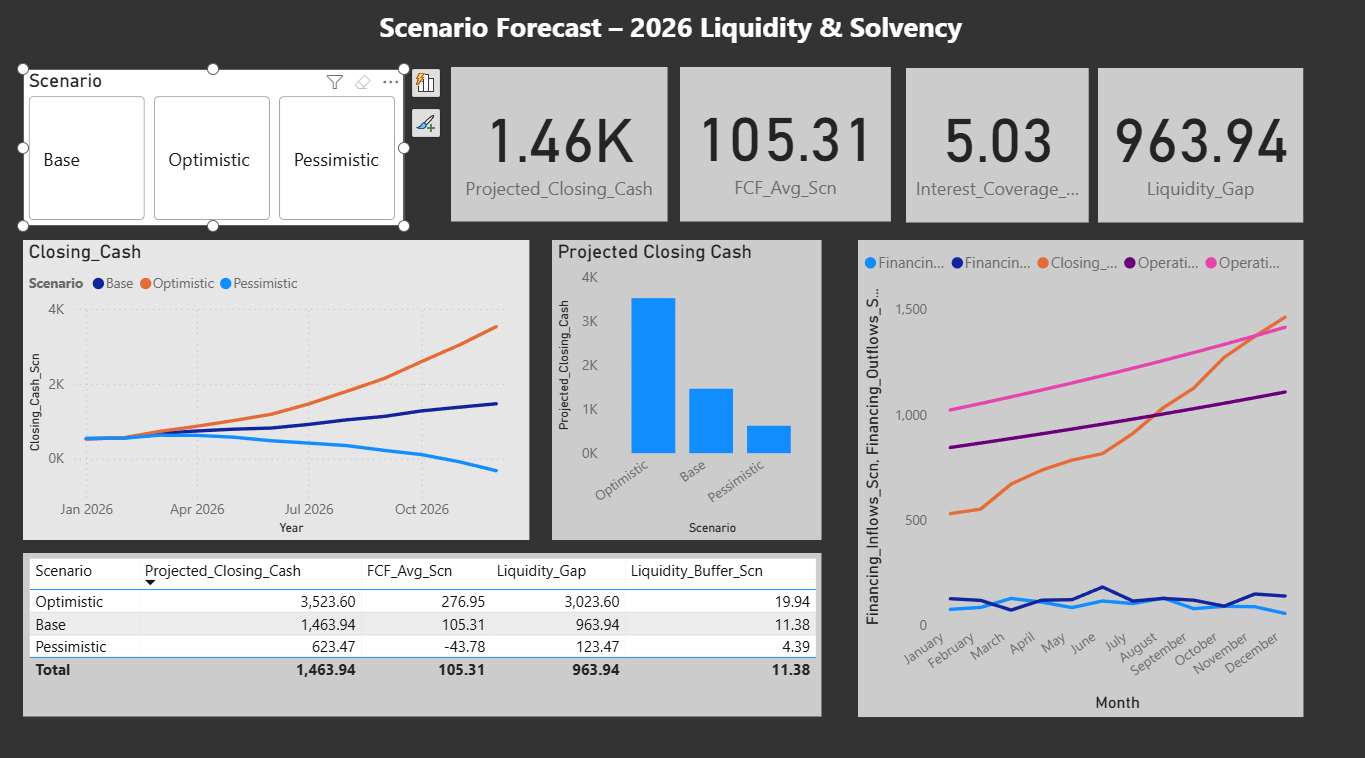

The dashboard page shown, as its layout file describes it:
{"tool":"powerbi","page":{"name":"Scenario Forecast","canvas":[1280,720],"ordinal":2},"visuals":[{"type":"textbox","box":[57.6,12.4,1142.1,59.4],"z":0},{"type":"card","fields":{"Values":["Forecasts.Liquidity_Gap"]},"box":[1010.8,70.9,181.8,136.6],"z":1000},{"type":"card","fields":{"Values":["Forecasts.FCF_Avg_Scn"]},"box":[640.2,70,187.1,136.6],"z":2000},{"type":"card","fields":{"Values":["Forecasts.Interest_Coverage_Scn"]},"box":[840.6,70.9,162.3,136.6],"z":3000},{"type":"advancedSlicerVisual","fields":{"Values":["Scenarios_Forecast.Scenario"]},"box":[57.6,71.8,337.8,139.2],"z":4000},{"type":"card","fields":{"Values":["Forecasts.Projected_Closing_Cash"]},"box":[437.1,70,191.5,137.4],"z":6000},{"type":"clusteredColumnChart","title":"Projected Closing Cash","fields":{"Y":["Forecasts.Projected_Closing_Cash"],"Category":["Scenarios_Forecast.Scenario"]},"box":[526.7,223.4,239.4,266],"z":7000},{"type":"lineChart","title":"Closing_Cash","fields":{"Category":["Calendar.Date.Variation.Date Hierarchy.Year","Calendar.Date.Variation.Date Hierarchy.Month"],"Y":["Forecasts.Closing_Cash_Scn"],"Series":["Scenarios_Forecast.Scenario"]},"box":[57.6,223.4,448.7,266],"z":8000},{"type":"tableEx","fields":{"Values":["Scenarios_Forecast.Scenario","Forecasts.Projected_Closing_Cash","Forecasts.FCF_Avg_Scn","Forecasts.Liquidity_Gap","Forecasts.Liquidity_Buffer_Scn"]},"box":[57.6,501,708.5,145.4],"z":8001},{"type":"lineChart","fields":{"Category":["Calendar.Date.Variation.Date Hierarchy.Year","Calendar.Date.Variation.Date Hierarchy.Month"],"Y":["Forecasts.Financing_Inflows_Scn","Forecasts.Financing_Outflows_Scn","Forecasts.Closing_Cash_Scn","Forecasts.Operating_Outflows_Scn","Forecasts.Operating_Inflows_Scn"]},"box":[798,223.4,394.6,423],"z":8002}]}

Visuals, with their boxes in screenshot pixels (x1, y1, x2, y2), scaled from the page's 1280x720 canvas onto the 1365x758 screenshot:
textbox: box=[61, 13, 1279, 76]
card - Forecasts.Liquidity_Gap: box=[1078, 75, 1272, 218]
card - Forecasts.FCF_Avg_Scn: box=[683, 74, 882, 218]
card - Forecasts.Interest_Coverage_Scn: box=[896, 75, 1069, 218]
advancedSlicerVisual - Scenarios_Forecast.Scenario: box=[61, 76, 422, 222]
card - Forecasts.Projected_Closing_Cash: box=[466, 74, 670, 218]
"Projected Closing Cash" clusteredColumnChart: box=[562, 235, 817, 515]
"Closing_Cash" lineChart: box=[61, 235, 540, 515]
tableEx - Scenarios_Forecast.Scenario x Forecasts.Projected_Closing_Cash: box=[61, 527, 817, 681]
lineChart - Calendar.Date.Variation.Date Hierarchy.Year x Calendar.Date.Variation.Date Hierarchy.Month: box=[851, 235, 1272, 681]
